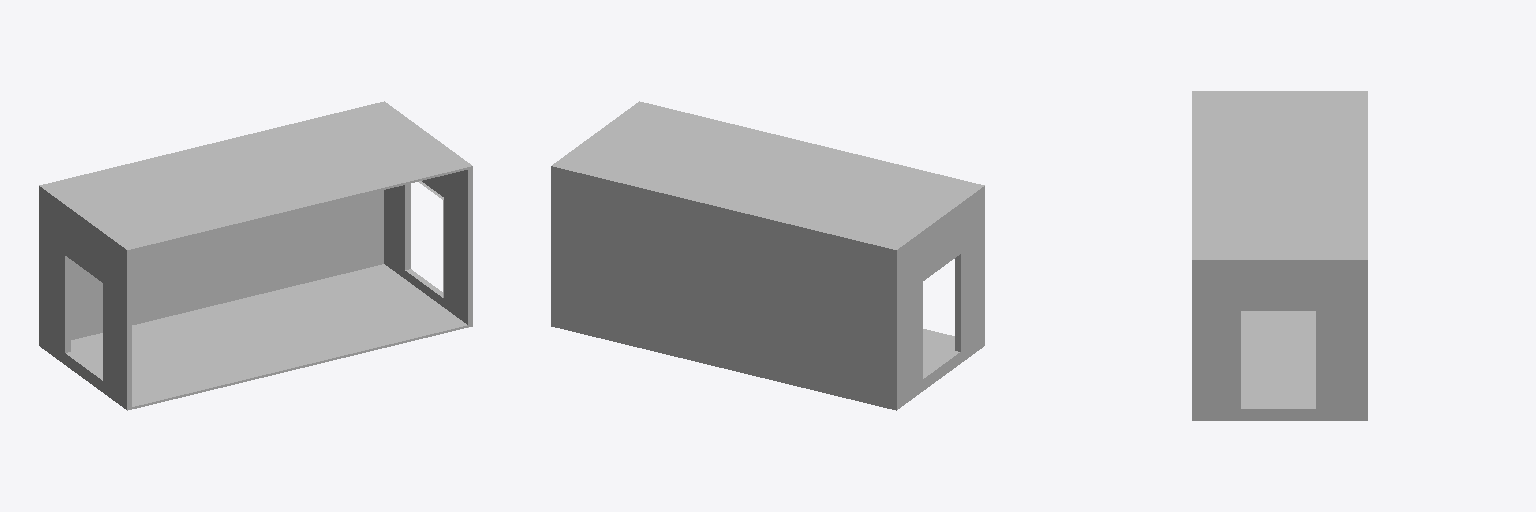
The model's file is Cuarto.obj.
The picture shows the model from 3 angles: view 1: azimuth 30°, elevation 25°; view 2: azimuth 150°, elevation 25°; view 3: azimuth 270°, elevation 25°; orthographic projection.
Parts seen in each view (by area): view 1: pCube1; view 2: pCube1; view 3: pCube1.
Part boxes in pixels (x1,y1,x2,y2): pCube1: (39,101,472,410); pCube1: (551,101,984,410); pCube1: (1192,91,1367,420).
Bounding box in the file's own units: 40.32 × 17.88 × 17.88.